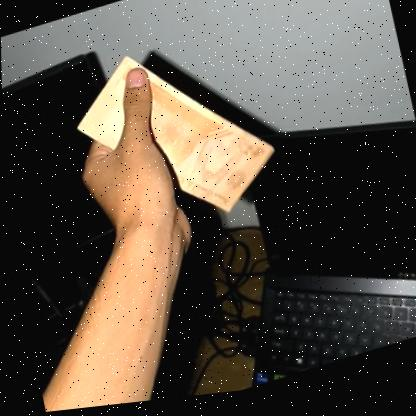twenty-back-vef: (62, 22, 284, 256)
